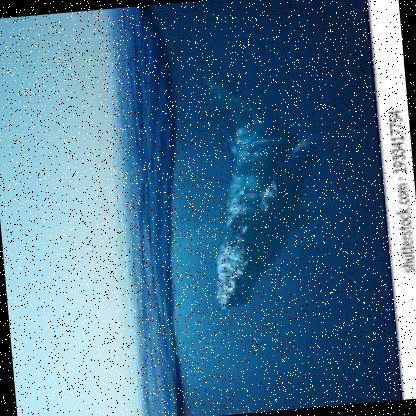blue_whale: (154, 43, 352, 332)
